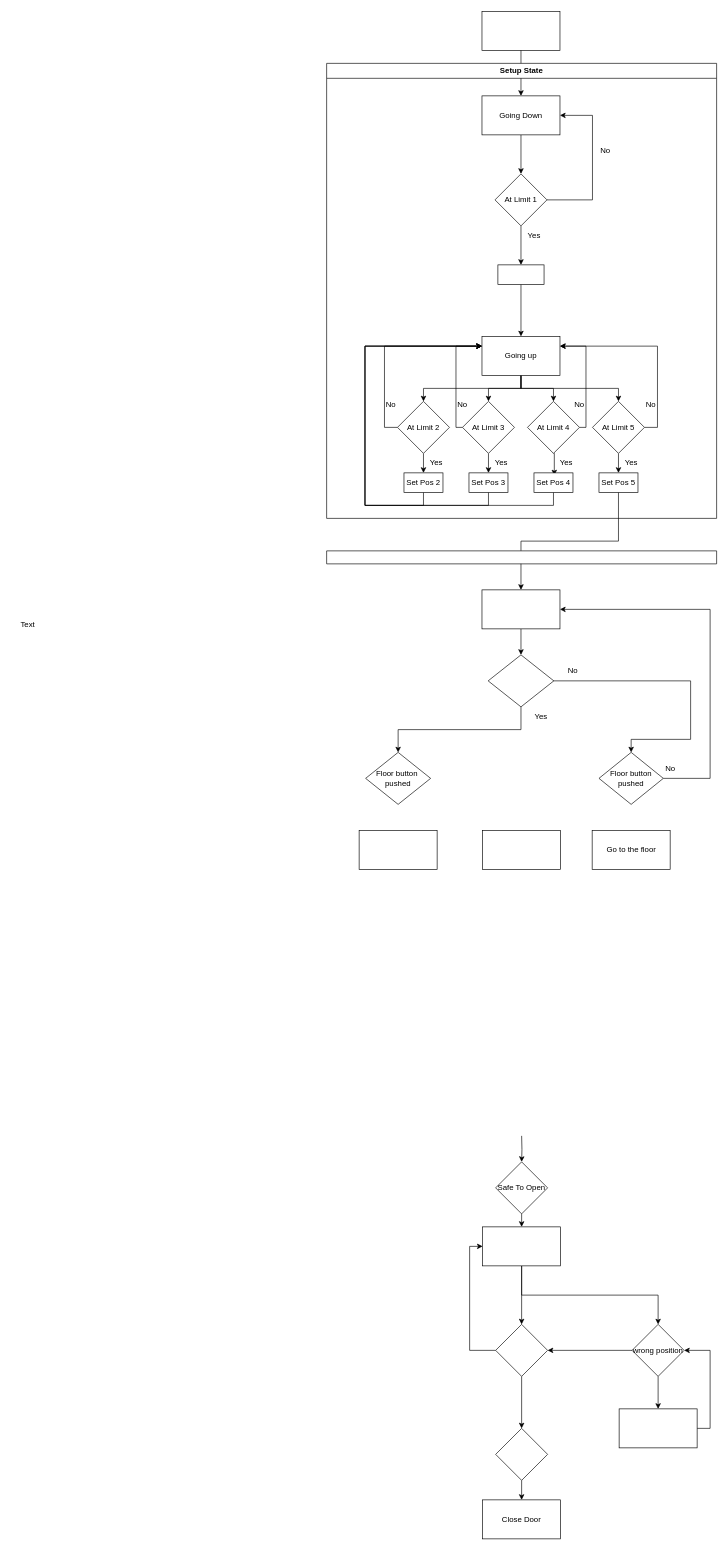
Some shapes in this 728 by 1550 pixel diagram are drawn without their labels. Each missing label, with the centre of its shape:
"adjust position with adjust speed" goes at (657,1428).
"Cabin button pushed" goes at (521,680).
"Idle" goes at (520,609).
"OPEN DOOR start timer" goes at (521,1246).
"Safe To Close" goes at (521,1454).
"Scheduler" goes at (521,557).
"Set Pos 1" goes at (520,274).
"START" goes at (520,30).
"timer ends or close button pushed" goes at (521,1350).
